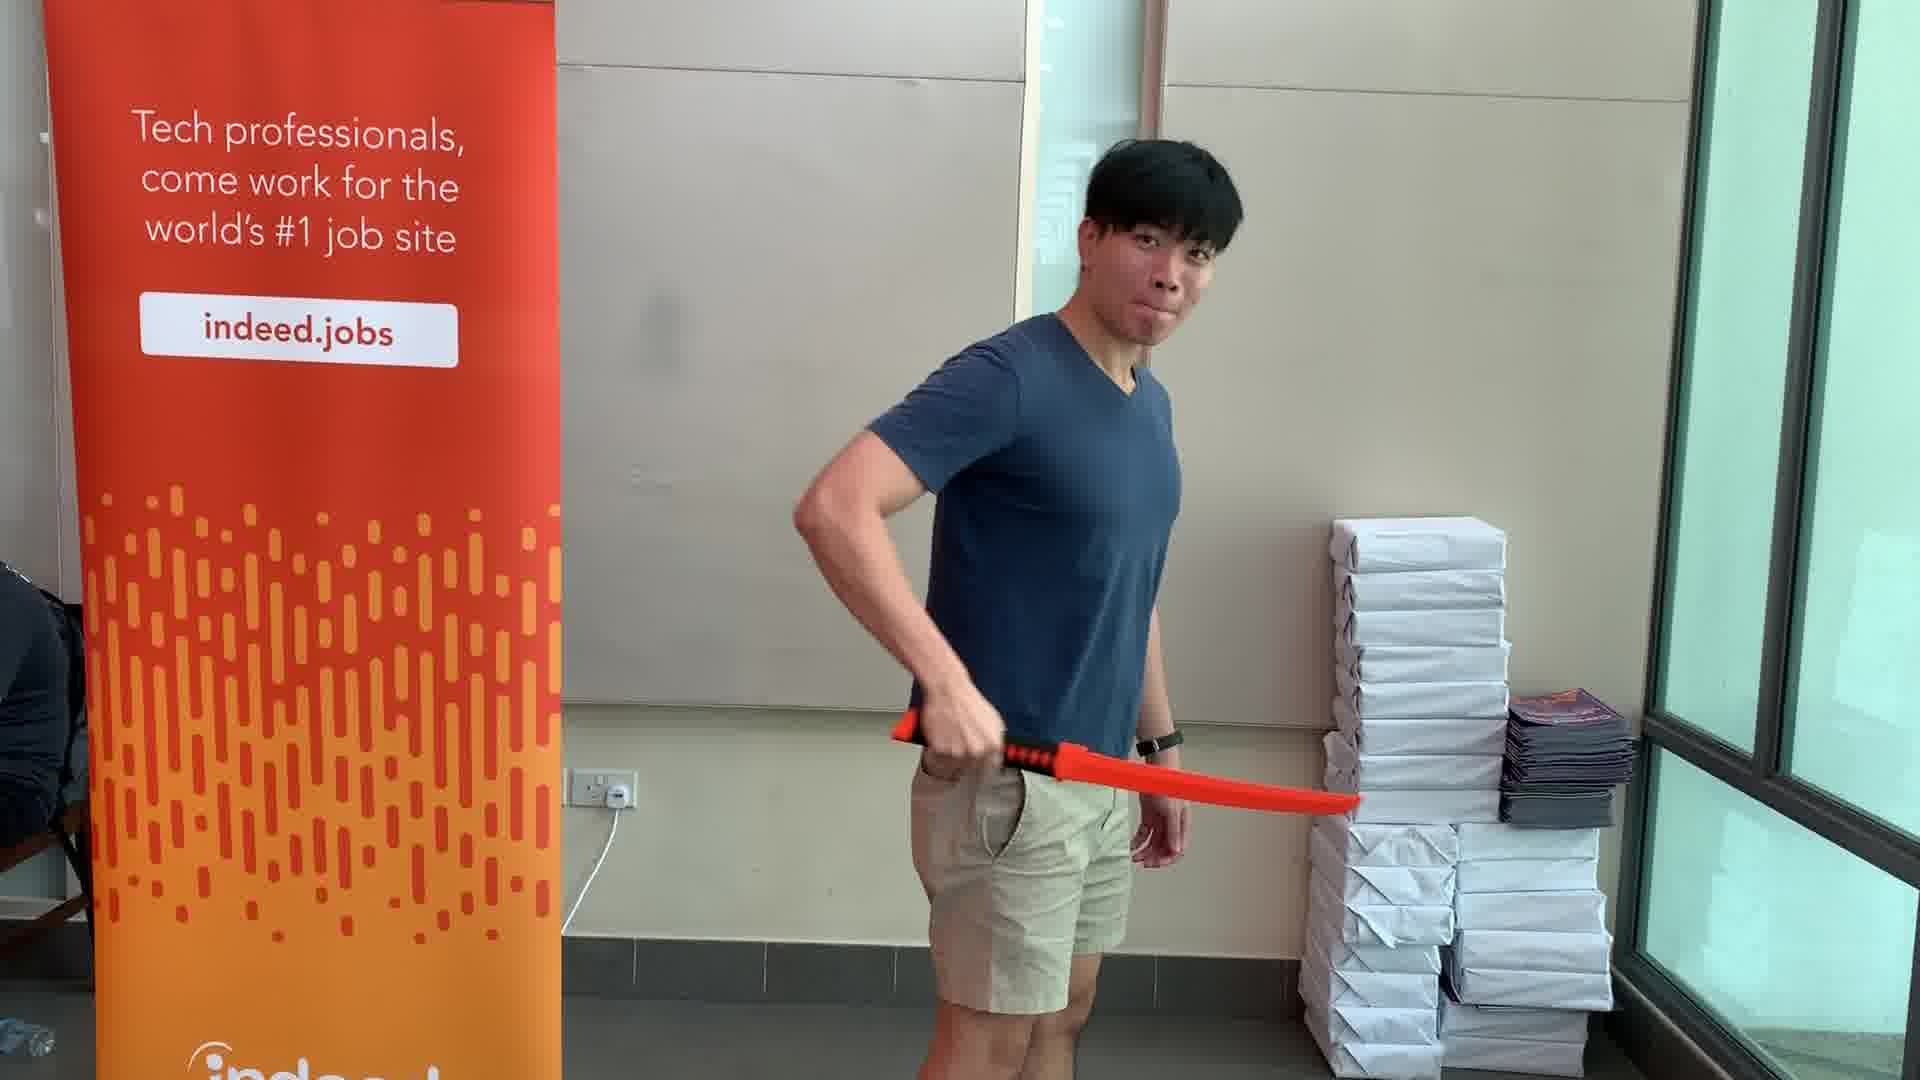knife: (887, 698, 1370, 825)
